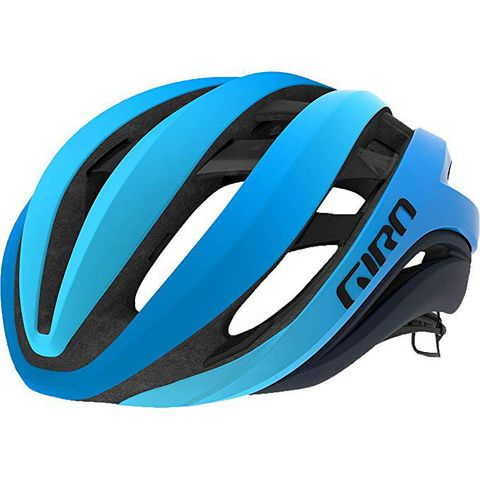with_helmet: (2, 70, 480, 429)
